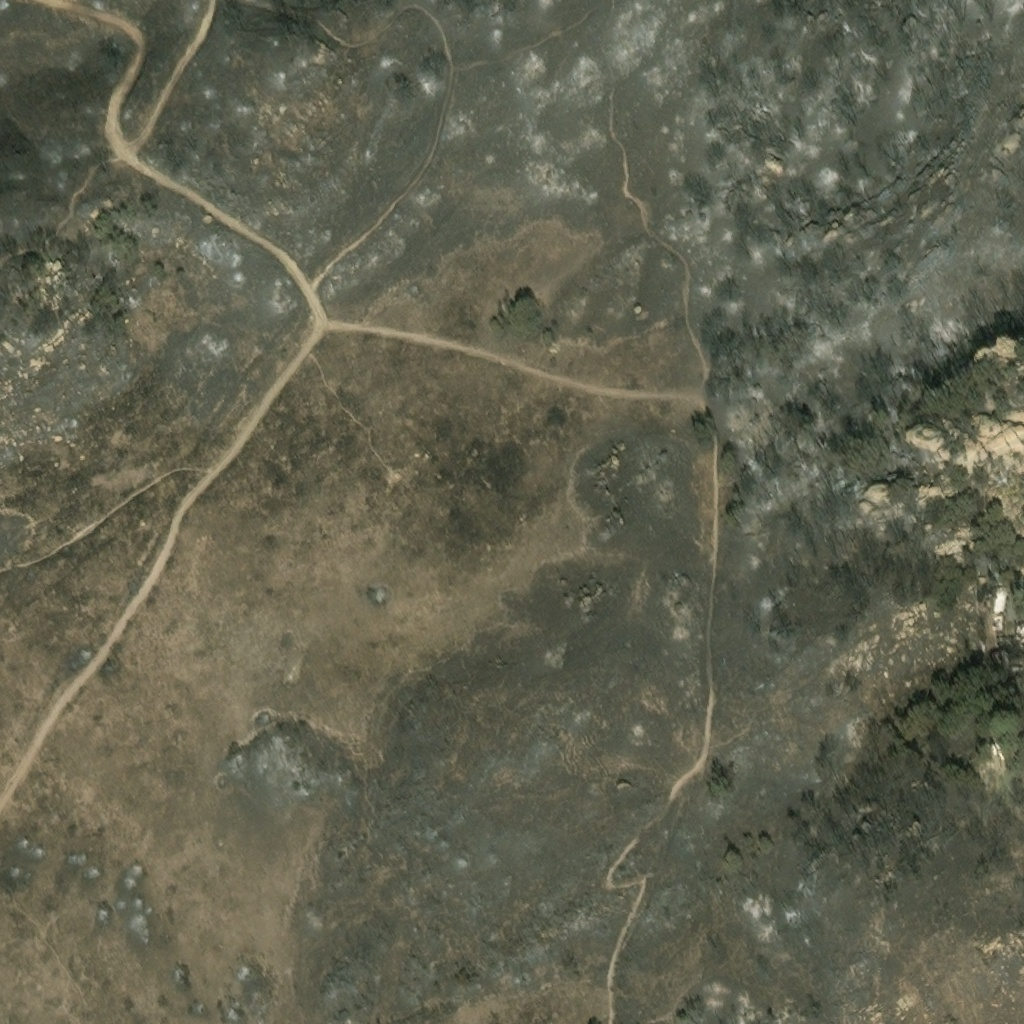3 destroyed: (991, 587, 1008, 631), (994, 625, 1023, 648)
